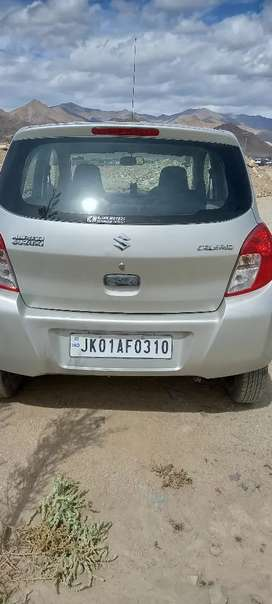JK01AF0310: (70, 333, 172, 358)
